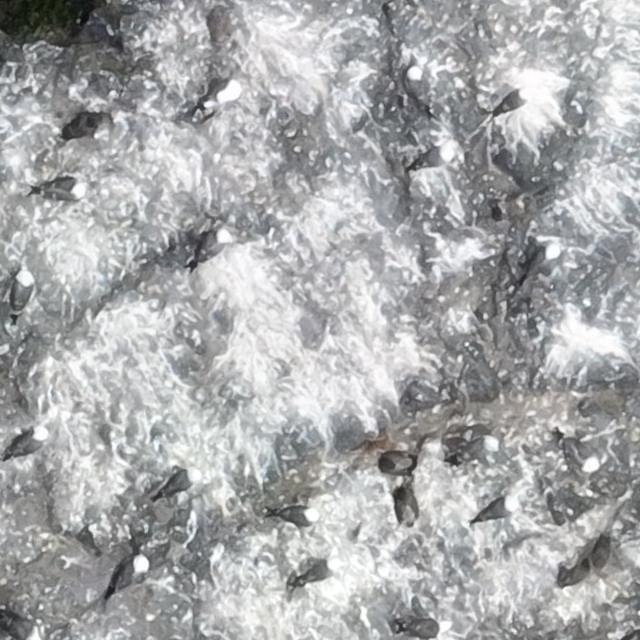umineko: (108, 553, 150, 594), (154, 466, 202, 500), (522, 243, 562, 280), (193, 228, 231, 264), (201, 75, 242, 108), (564, 436, 599, 472), (476, 496, 520, 524), (36, 178, 90, 200), (454, 435, 498, 462), (298, 558, 340, 586), (407, 616, 455, 639), (10, 432, 46, 455), (282, 506, 321, 526), (496, 91, 530, 112), (406, 64, 424, 103), (14, 269, 32, 307), (420, 148, 453, 168)
